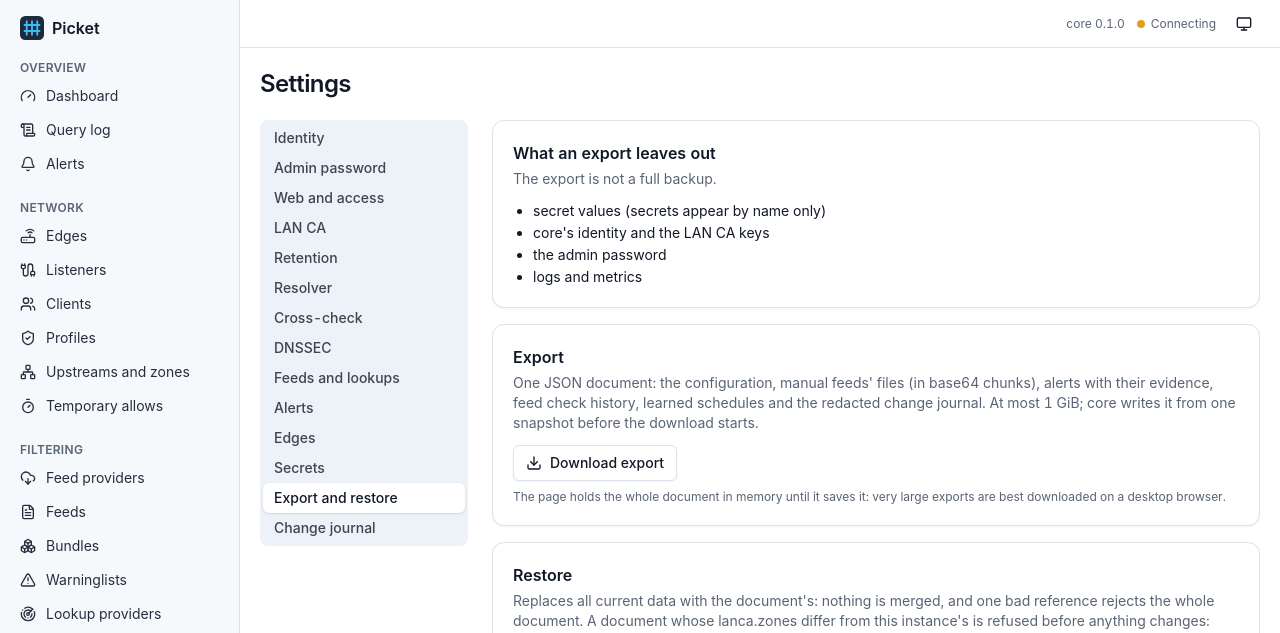
config export and restore (GET/PUT config/export) › explains each refusal of the export: one at a time, disk space, a part too large
The width and height of the screenshot is (1280, 633).
Click the button "Download export" at (595, 463), box [513,445,677,481]
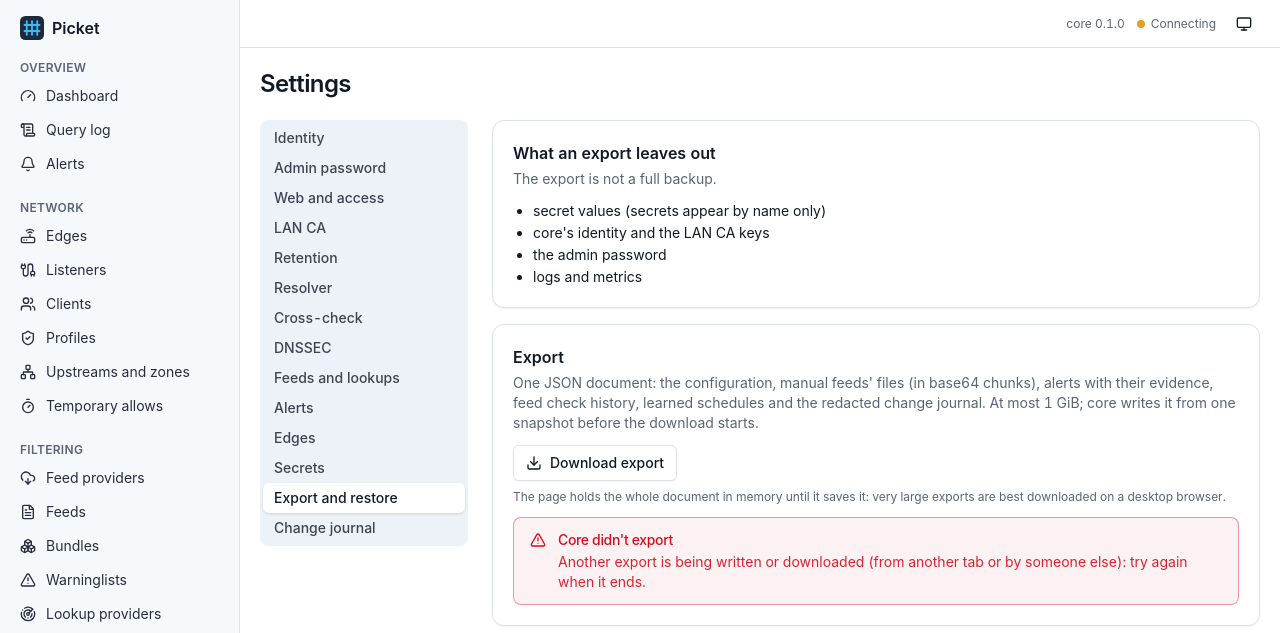
Expected: the text "Another export is being written or downloaded" is shown, [558,553,1188,590]
Click the button "Download export" at (595, 463), box [513,445,677,481]
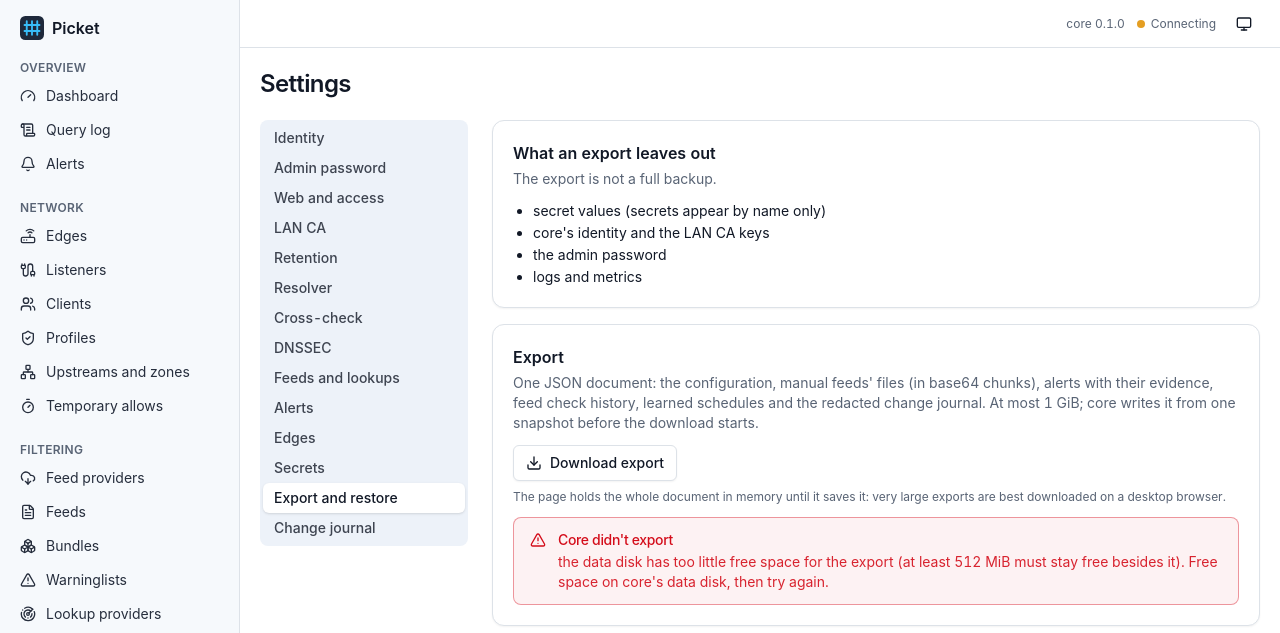
Expected: the text "at least 512 MiB must stay free besides it). Free space on core's data disk" is shown, [558,553,1218,590]
Click the button "Download export" at (595, 463), box [513,445,677,481]
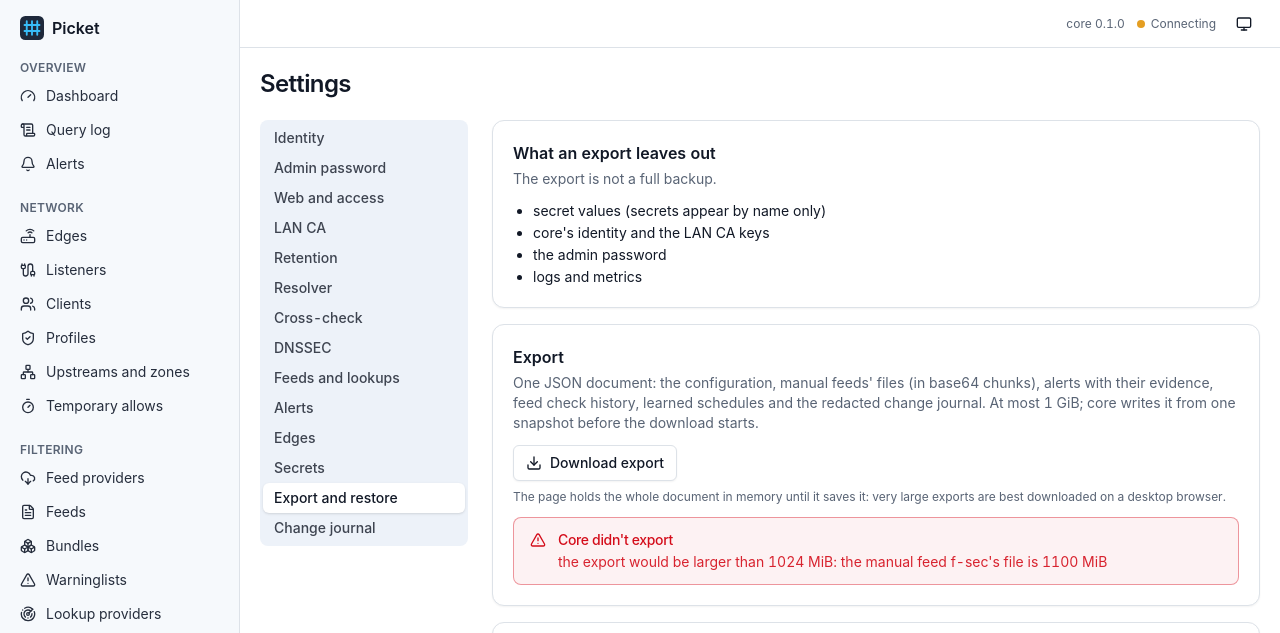
Expected: the text "the manual feed f-sec's file is 1100 MiB" is shown, [558,553,1107,570]
